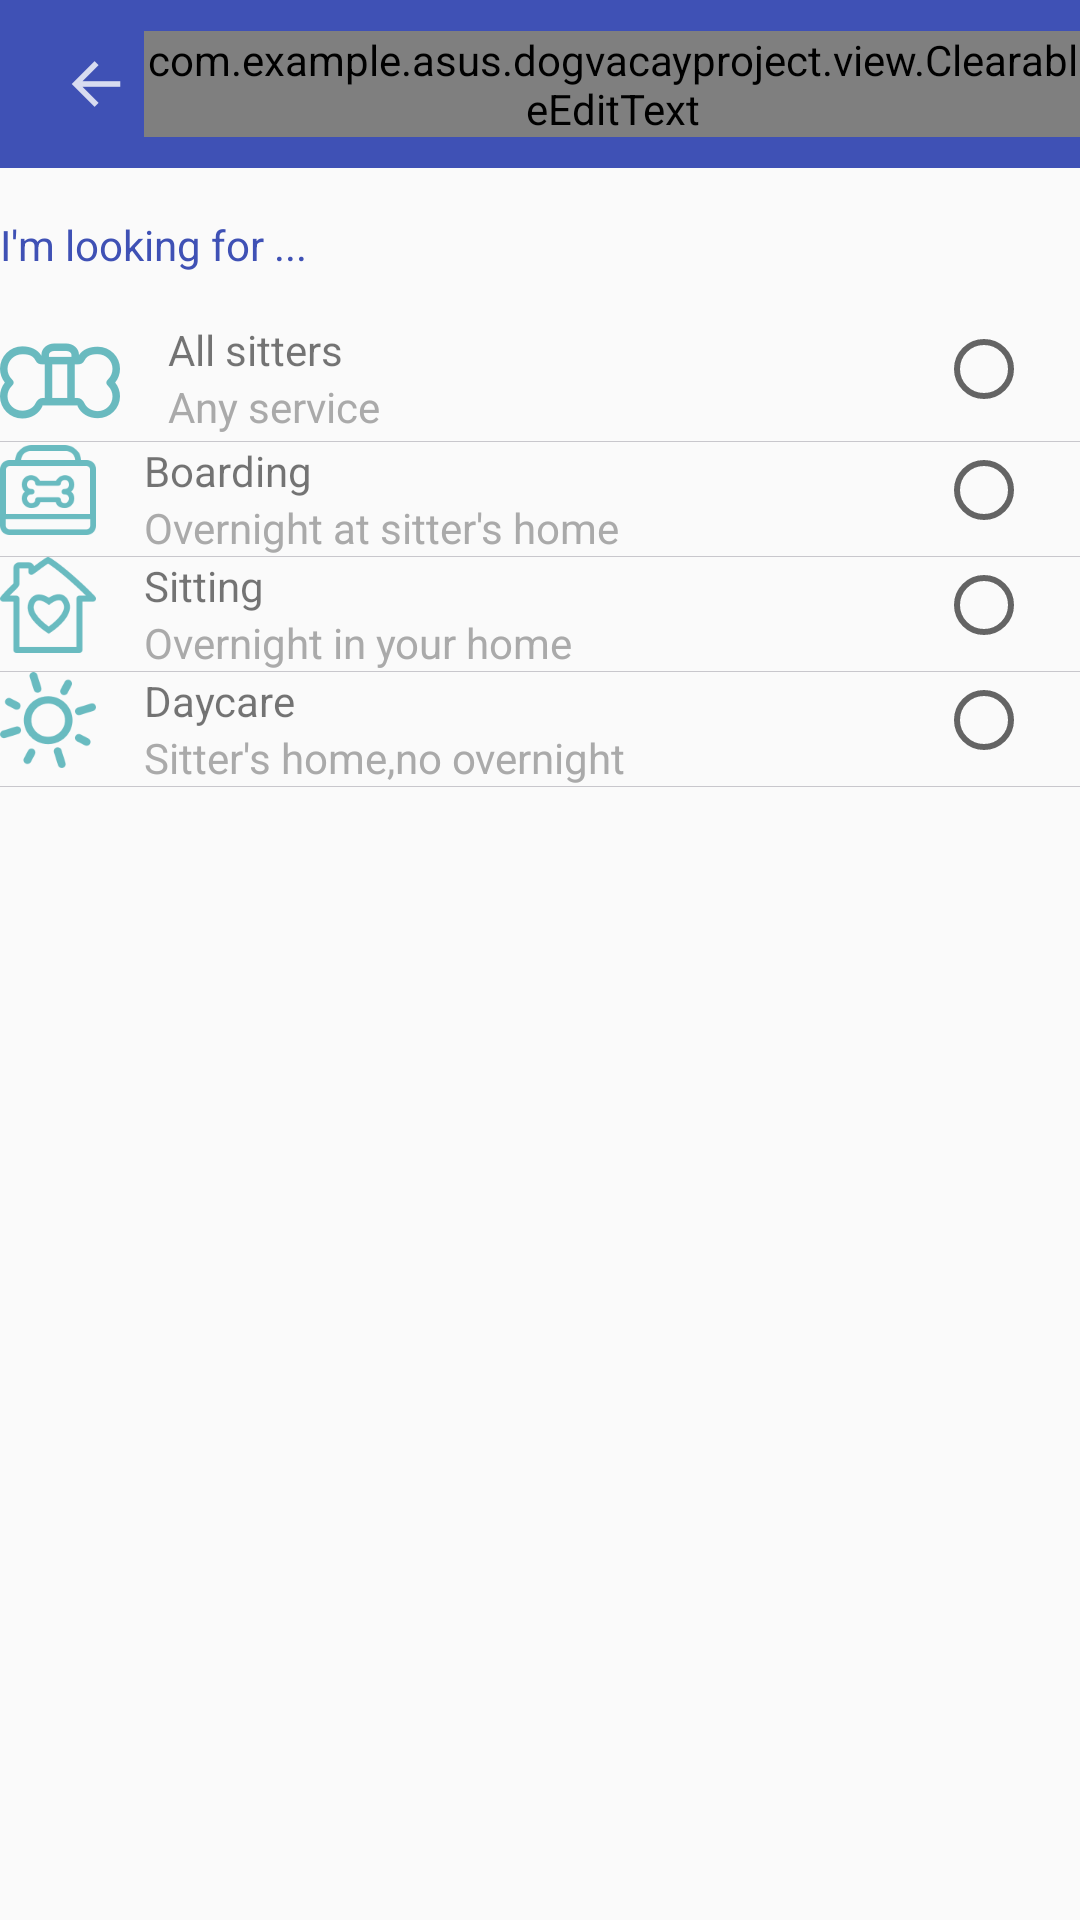

Icons on this 1080 x 1920 Android screen, each with the point to tap as point (x, y):
bone: point (60, 381)
navigation arrow back: point (96, 84)
